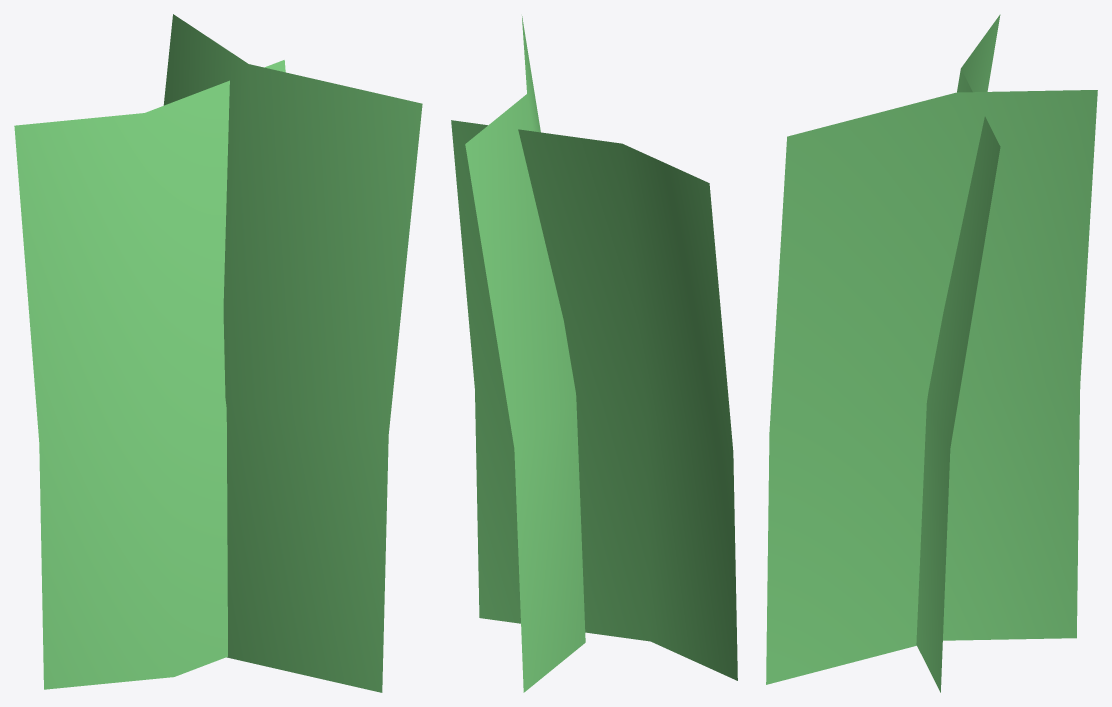
Rendered from GrassPlanes_a_TwoS_01.fbx.
3 views of the same model, side by side, from view 1: azimuth 30°, elevation 25°; view 2: azimuth 150°, elevation 25°; view 3: azimuth 270°, elevation 25° (orthographic). The views are drawn at different scales.
Parts seen in each view (by area): view 1: GrassPlanes_a_TwoS_01; view 2: GrassPlanes_a_TwoS_01; view 3: GrassPlanes_a_TwoS_01.
Part boxes in pixels (<box>): GrassPlanes_a_TwoS_01: <box>14,14,422,692</box>; GrassPlanes_a_TwoS_01: <box>451,16,737,692</box>; GrassPlanes_a_TwoS_01: <box>766,14,1097,692</box>.
Size of the model in its own units: 32.27 by 58.07 by 30.46.
